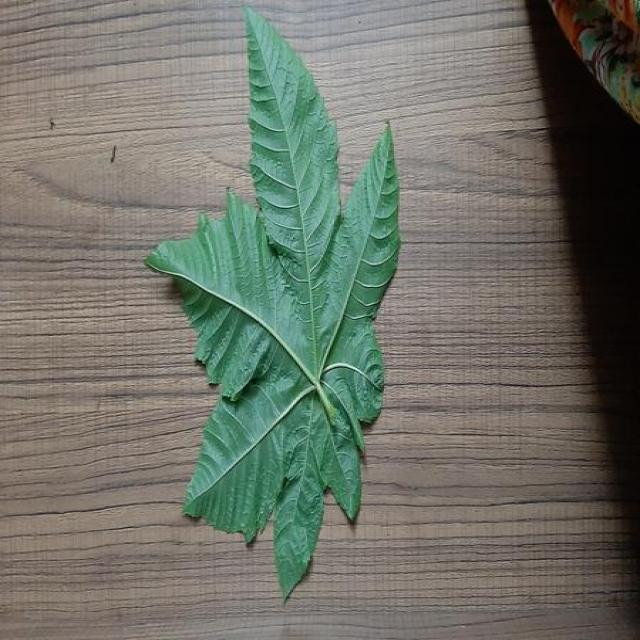seedling blight: (145, 8, 398, 597)
